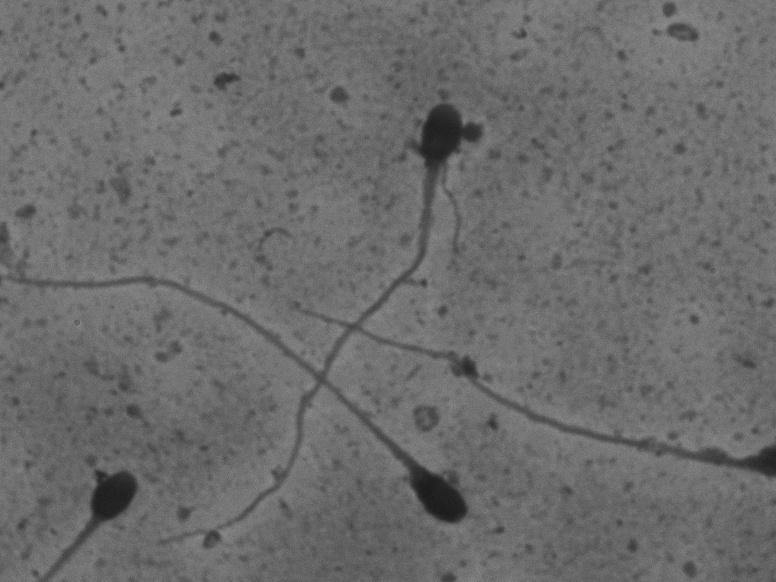Abnormal: (138, 81, 476, 564), (10, 265, 480, 535)
